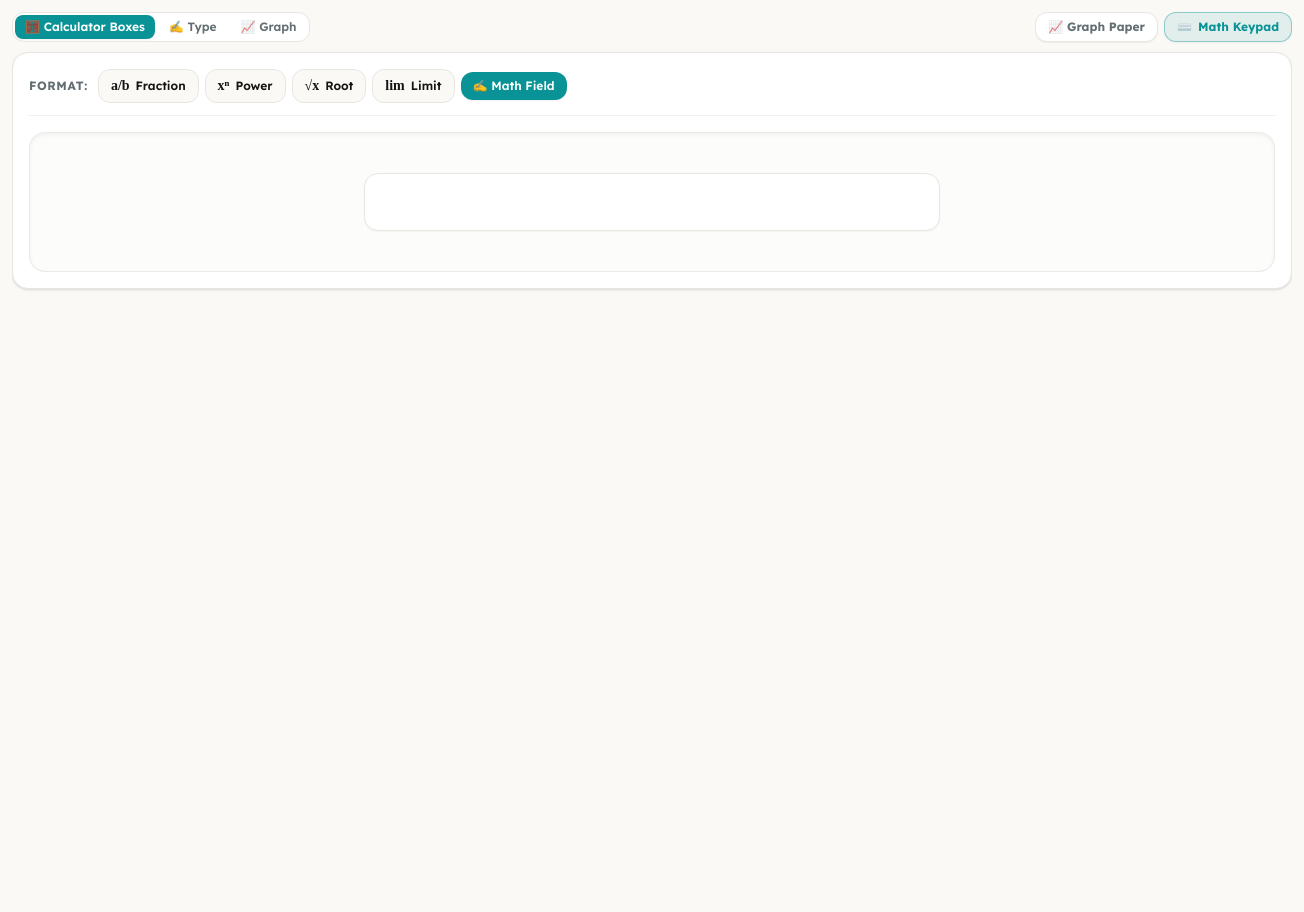
Scenario: MathInput Component with Visual Calculator Boxes › switches to inline Coordinate Grapher mode inside the exam question
Switch to graph mode
Click the button with aria-label "Coordinate Grapher" at [268, 27], box [230,15,306,39]
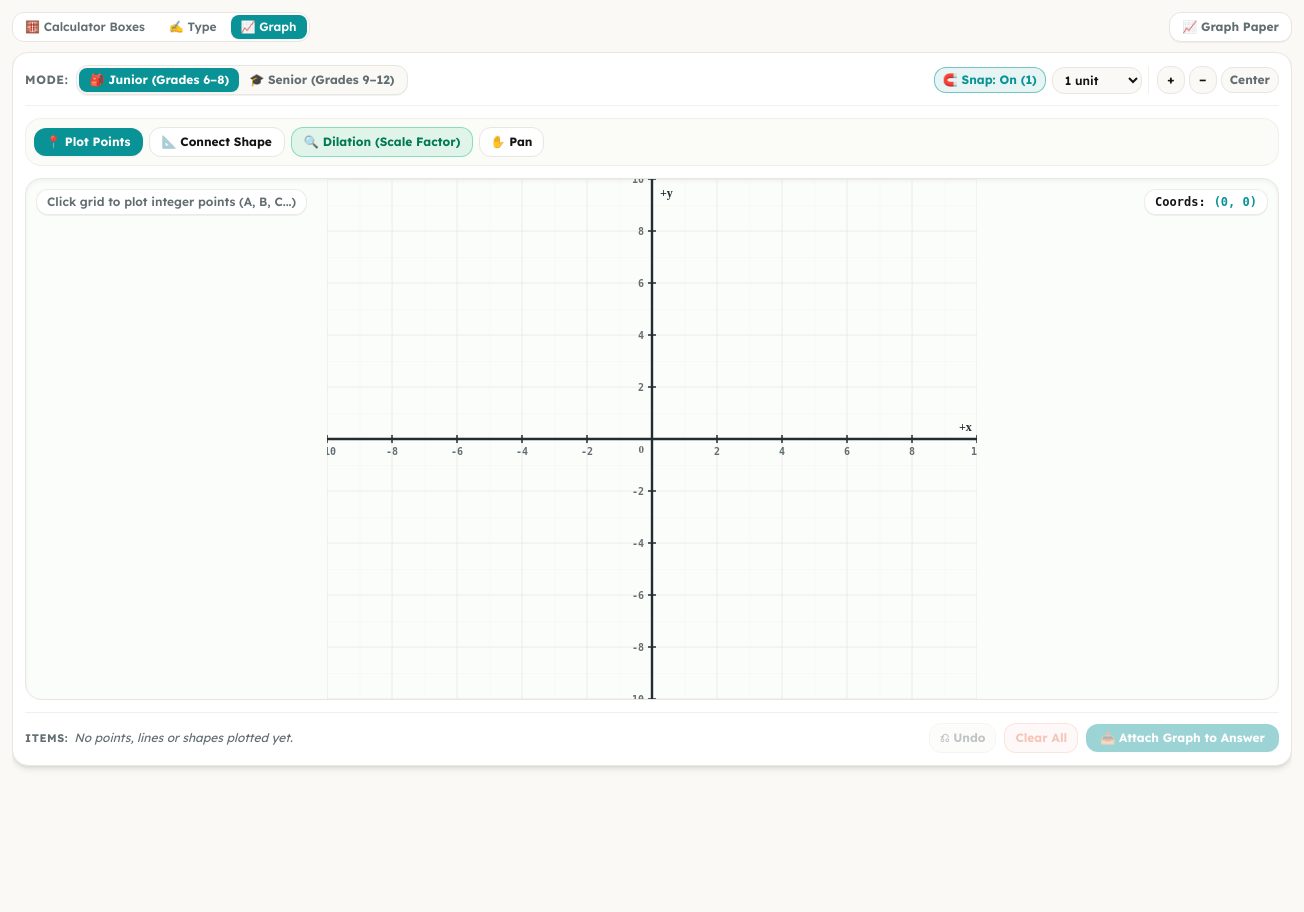
Result: the element named "Cartesian Coordinate Grapher" is shown
Result: the button "📍 Plot Points" is shown at [34,128,142,156]
